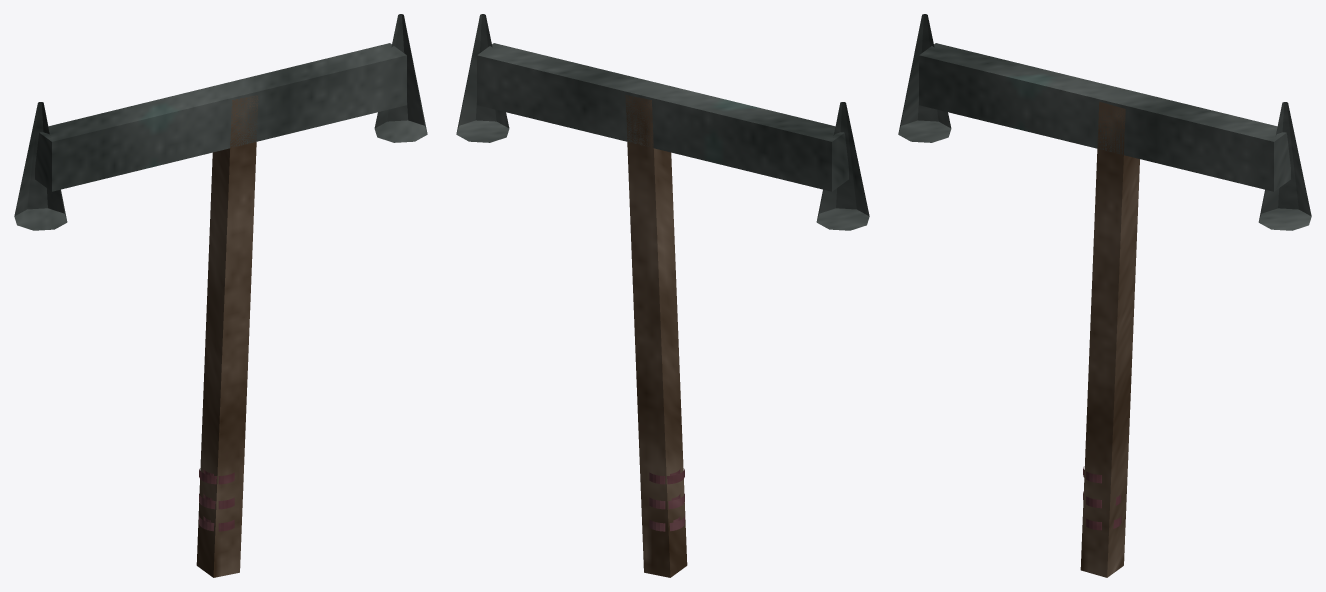
Rendered from 0865_pickaxe_15.glb.
3 renders of one model, left to right at view 1: azimuth 30°, elevation 25°; view 2: azimuth 150°, elevation 25°; view 3: azimuth 330°, elevation 25°, orthographic.
Visible parts, largest first — view 1: iron, wood, cloth; view 2: iron, wood, cloth; view 3: iron, wood, cloth.
Part boxes in pixels (bbox=[...]): iron: bbox=[14, 14, 427, 230]; wood: bbox=[196, 95, 258, 577]; cloth: bbox=[199, 469, 234, 531]; iron: bbox=[456, 14, 869, 230]; wood: bbox=[625, 95, 687, 577]; cloth: bbox=[649, 469, 684, 531]; iron: bbox=[898, 14, 1311, 230]; wood: bbox=[1080, 101, 1139, 577]; cloth: bbox=[1083, 467, 1121, 530].
Size of the model in its own units: 1.54 by 1.84 by 0.18.
Materials: 3 (3 with a texture image).
